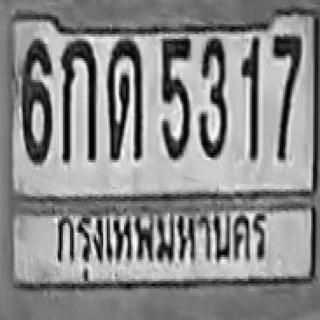A01: (60, 39, 95, 160)
N01: (240, 36, 259, 160)
N03: (198, 36, 225, 158)
N05: (161, 36, 189, 158)
N06: (19, 36, 51, 162)
N07: (271, 34, 301, 158)
P04: (46, 204, 274, 282)
